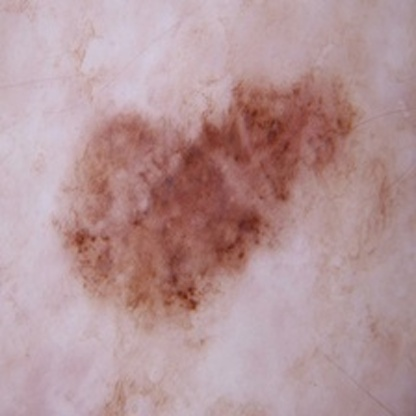malignant: (76, 96, 343, 297)
